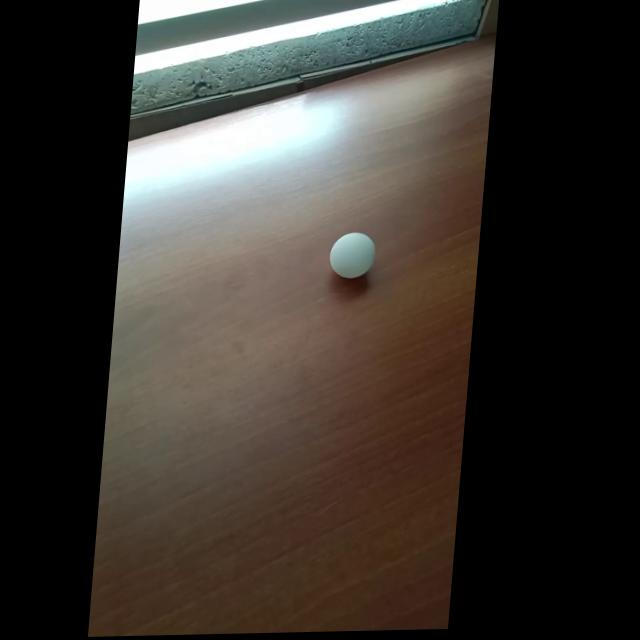white ball: (328, 232, 377, 280)
